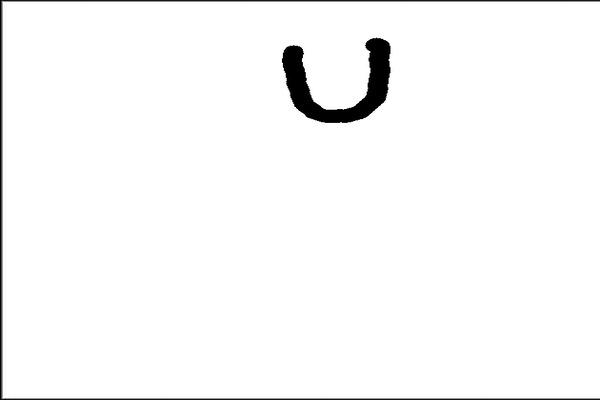U: (267, 31, 400, 126)
